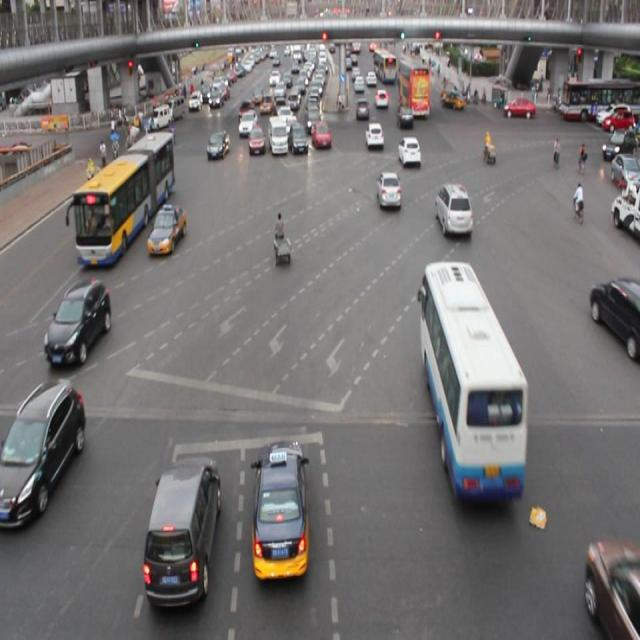car: (1, 378, 86, 530), (250, 438, 313, 584), (44, 280, 112, 367), (587, 539, 640, 640), (591, 274, 640, 361), (434, 181, 472, 237), (148, 206, 185, 253), (375, 171, 400, 211), (397, 134, 421, 167), (207, 128, 229, 160), (288, 121, 308, 156), (312, 119, 331, 151), (364, 120, 384, 150), (248, 125, 266, 157), (238, 106, 256, 137)
truck: (143, 453, 220, 610), (267, 118, 289, 156)
van: (424, 260, 524, 502), (76, 130, 172, 267)
